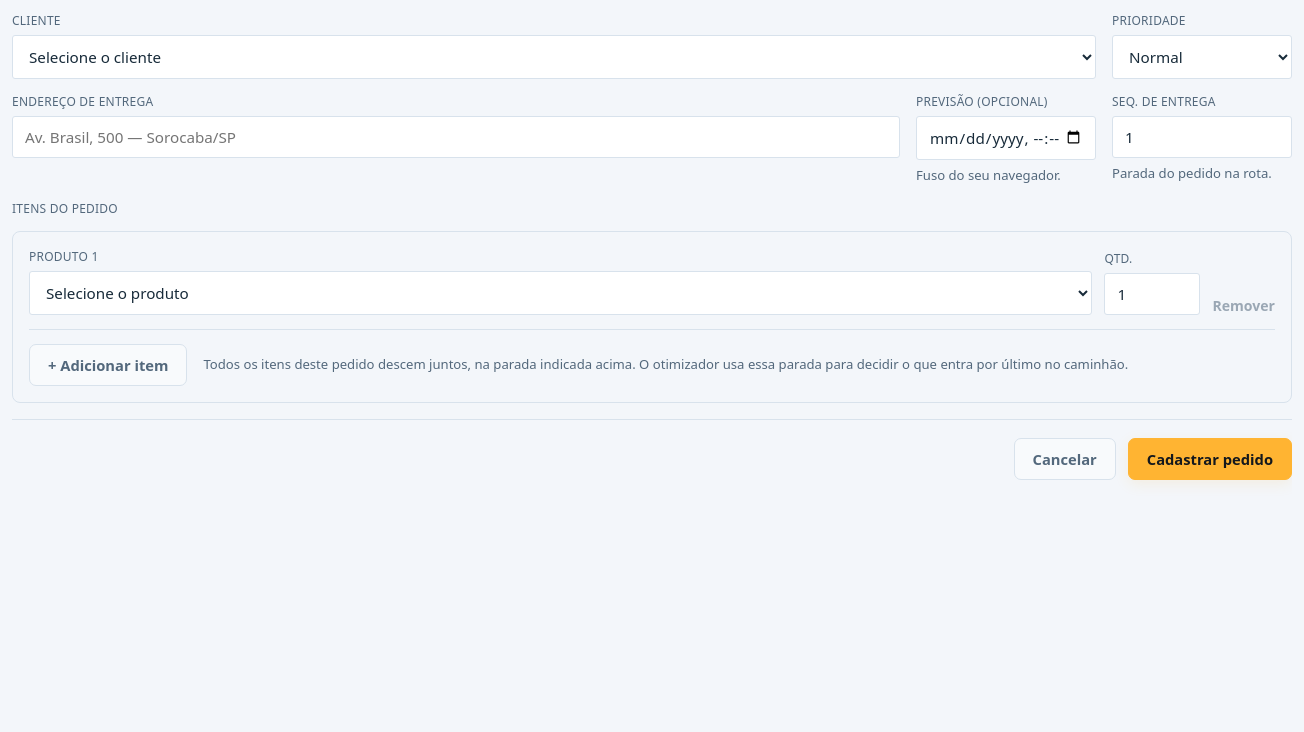
OC99 seleção e preservação de endereço › falha na consulta mantém cadastro manual disponível
Select "Distribuidora Aurora — Campinas/SP" in the dropdown labelled "CLIENTE": (554, 57) [12,35,1096,79]
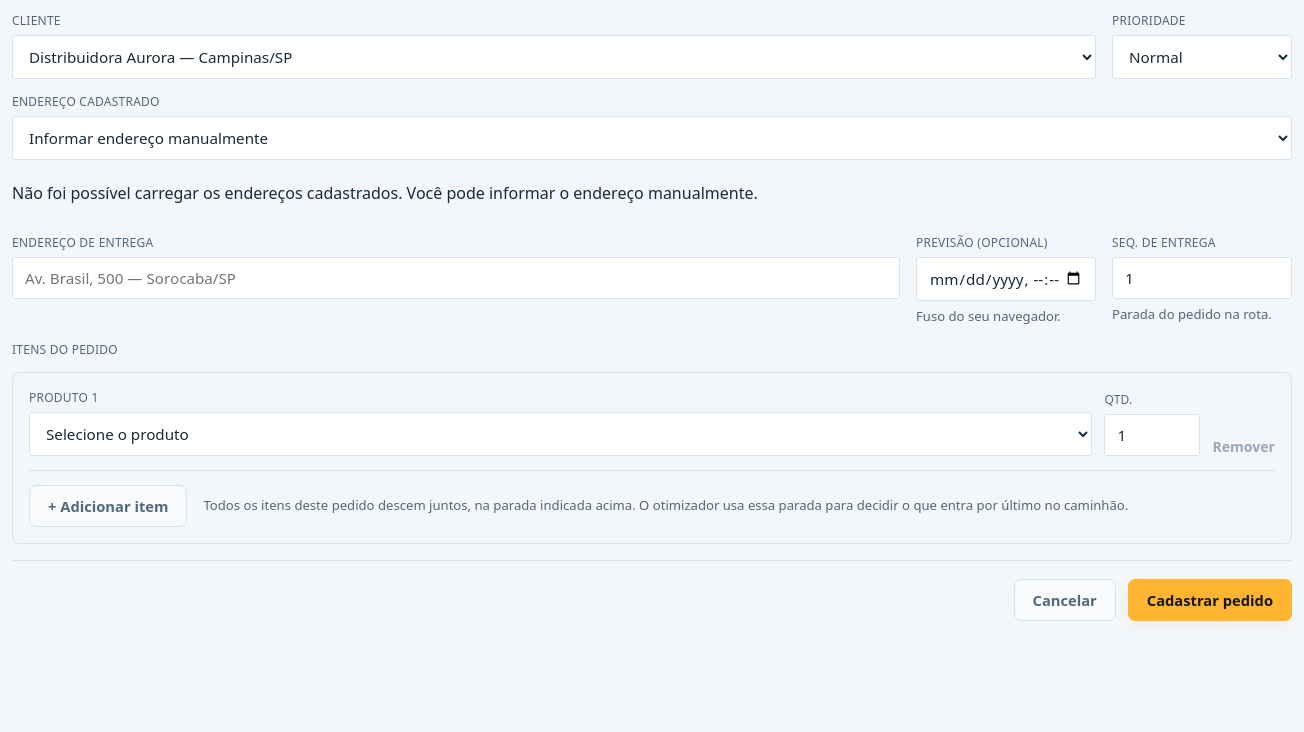
Expected: the field labelled "ENDEREÇO DE ENTREGA" is enabled, [12,257,900,299]
Result: the message shows "Você pode informar o endereço manualmente" at [12,182,758,204]
